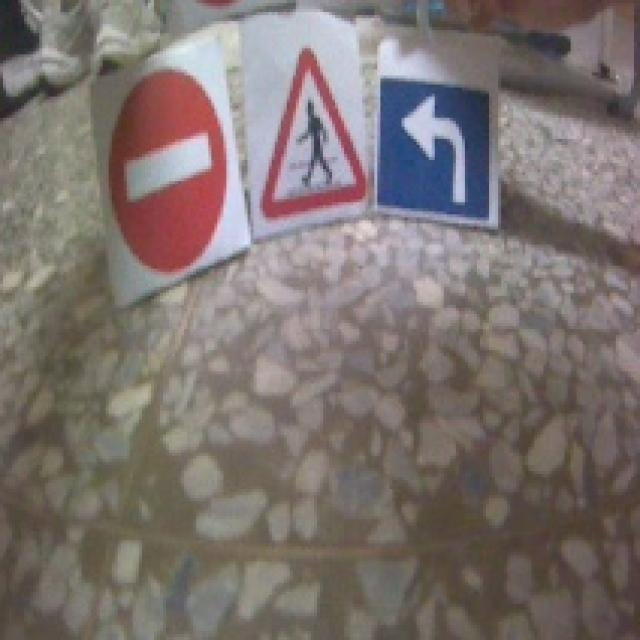DoNotEnterSign: (106, 70, 230, 272)
